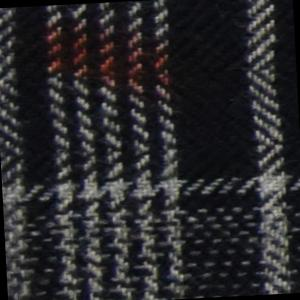Stain: (22, 13, 203, 105)
